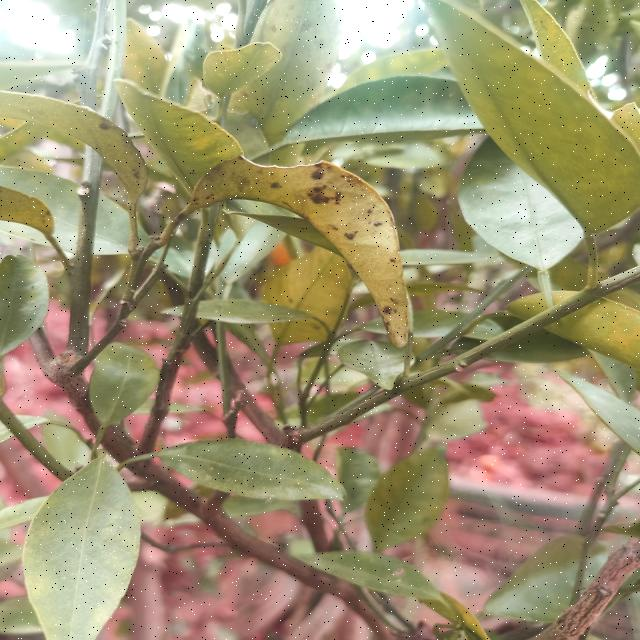melanose: (170, 139, 427, 343)
